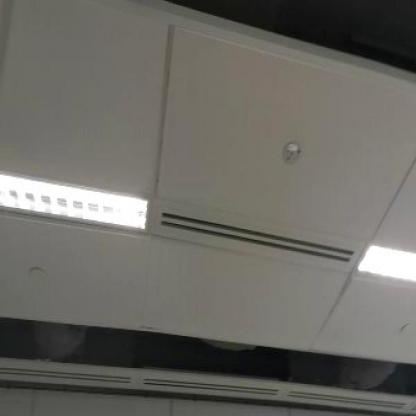light_on: (0, 157, 156, 243), (350, 230, 416, 296)
